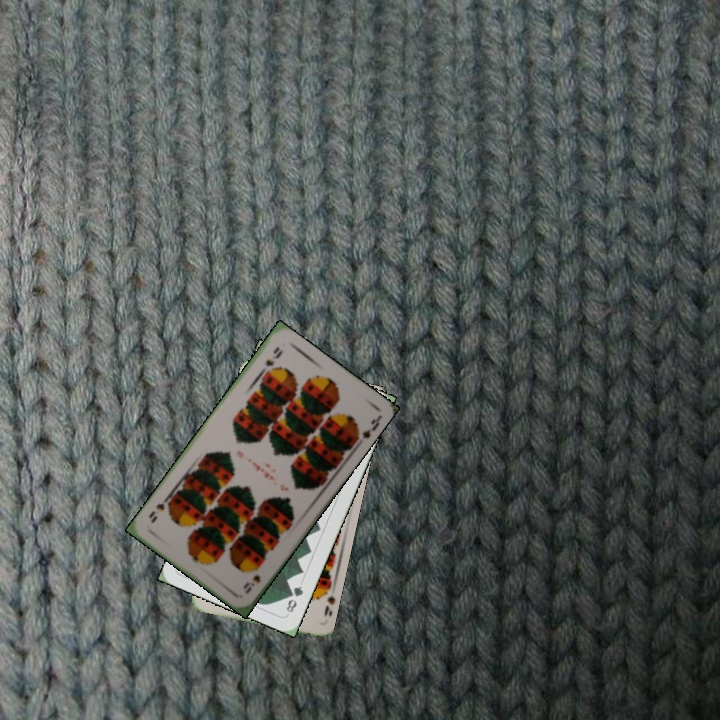G8: (282, 582, 306, 615)
S9: (316, 583, 336, 620), (261, 342, 285, 369), (239, 571, 264, 596)
